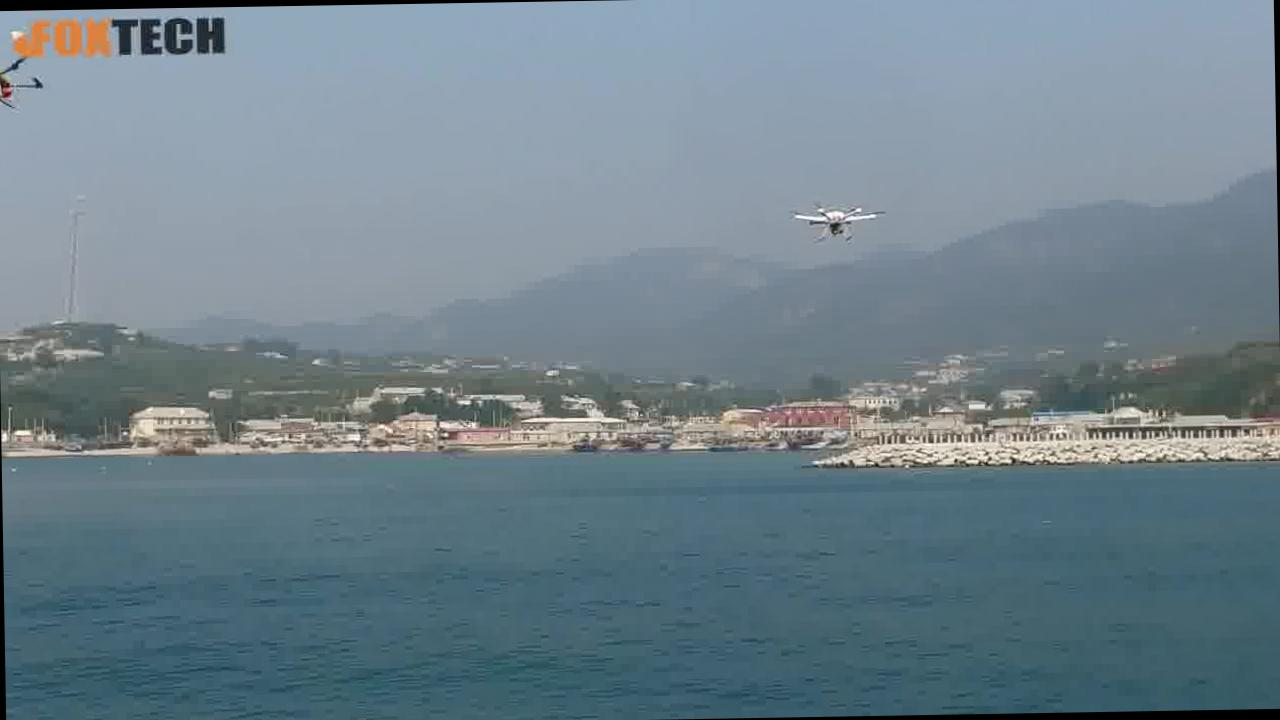drone: (781, 182, 891, 250)
